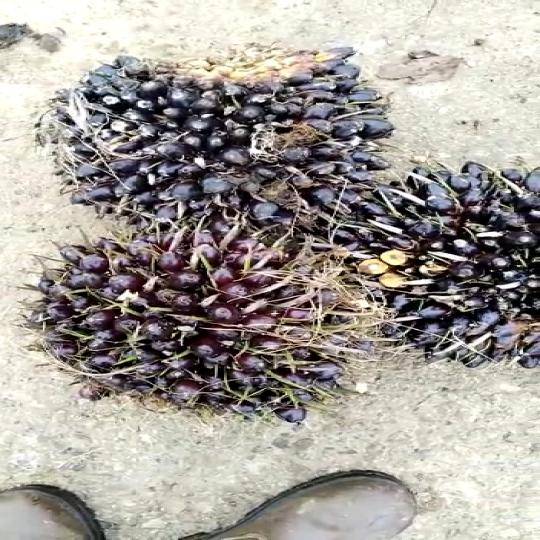mentah: (11, 233, 391, 448), (47, 39, 387, 240), (309, 154, 540, 373)
